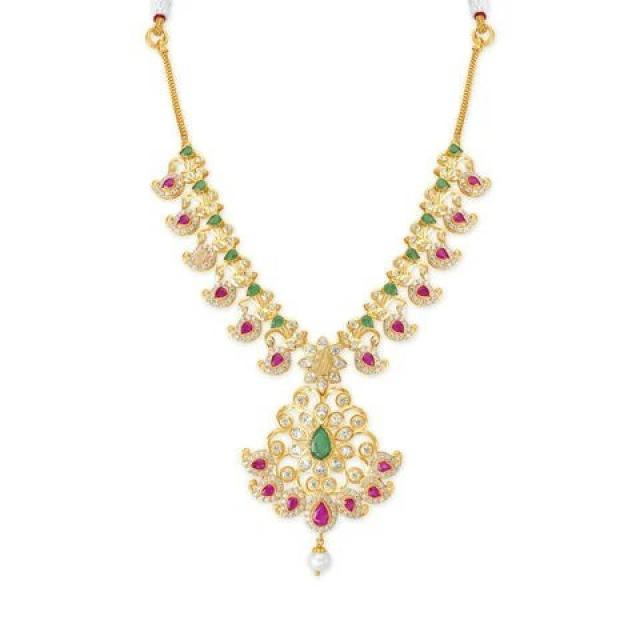missing gem: (315, 348, 333, 375), (194, 248, 209, 259)
